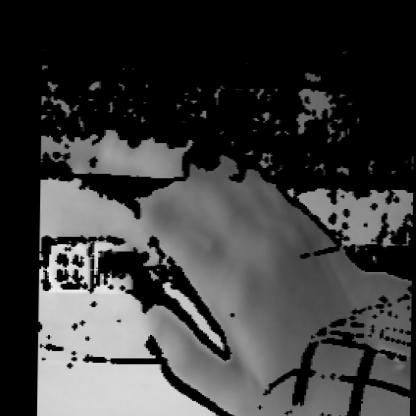dua: (50, 148, 413, 415)
